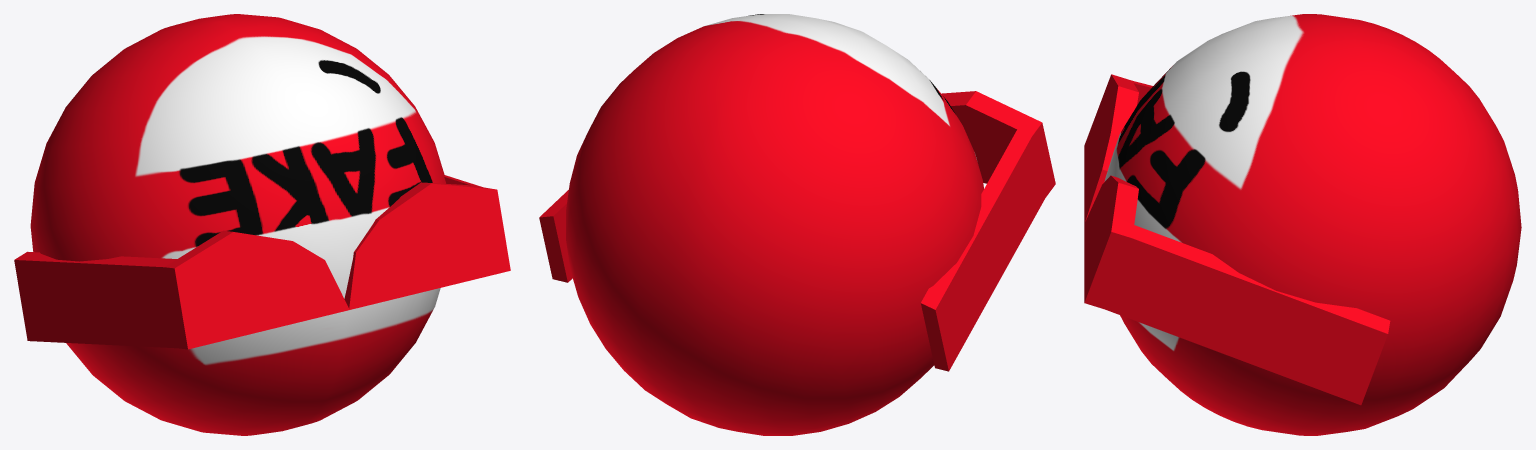
File: BombFake.fbx
3 views of the same model, side by side, from view 1: azimuth 30°, elevation 25°; view 2: azimuth 150°, elevation 25°; view 3: azimuth 270°, elevation 25° (orthographic).
Parts seen in each view (by area): view 1: Cube; view 2: Cube; view 3: Cube.
Part boxes in pixels (x1=…): Cube: x1=14, y1=14, x2=510, y2=435; Cube: x1=539, y1=14, x2=1055, y2=435; Cube: x1=1084, y1=14, x2=1521, y2=435.
Bounding box in the file's own units: 196 × 184 × 190.
1 material, 1 textured.
